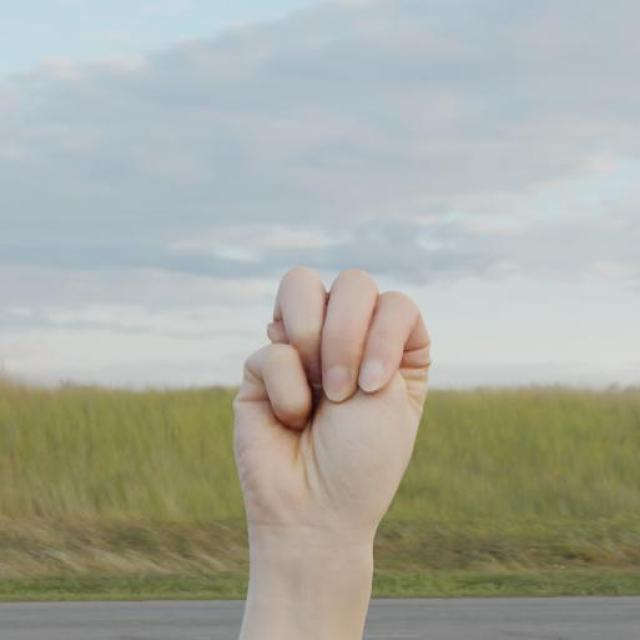M: (234, 263, 436, 537)
